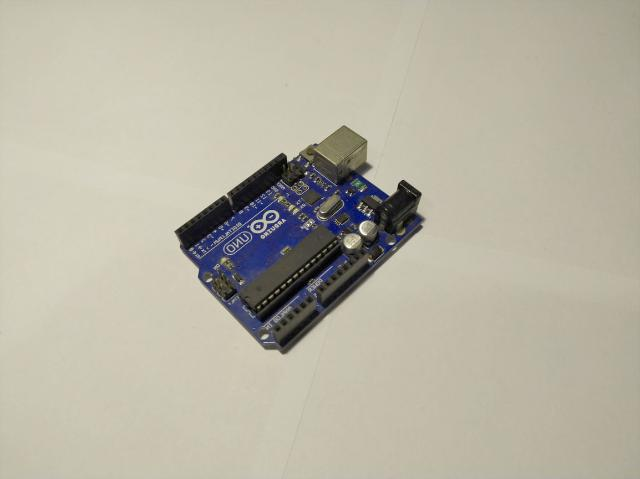arduino: (175, 126, 422, 346)
